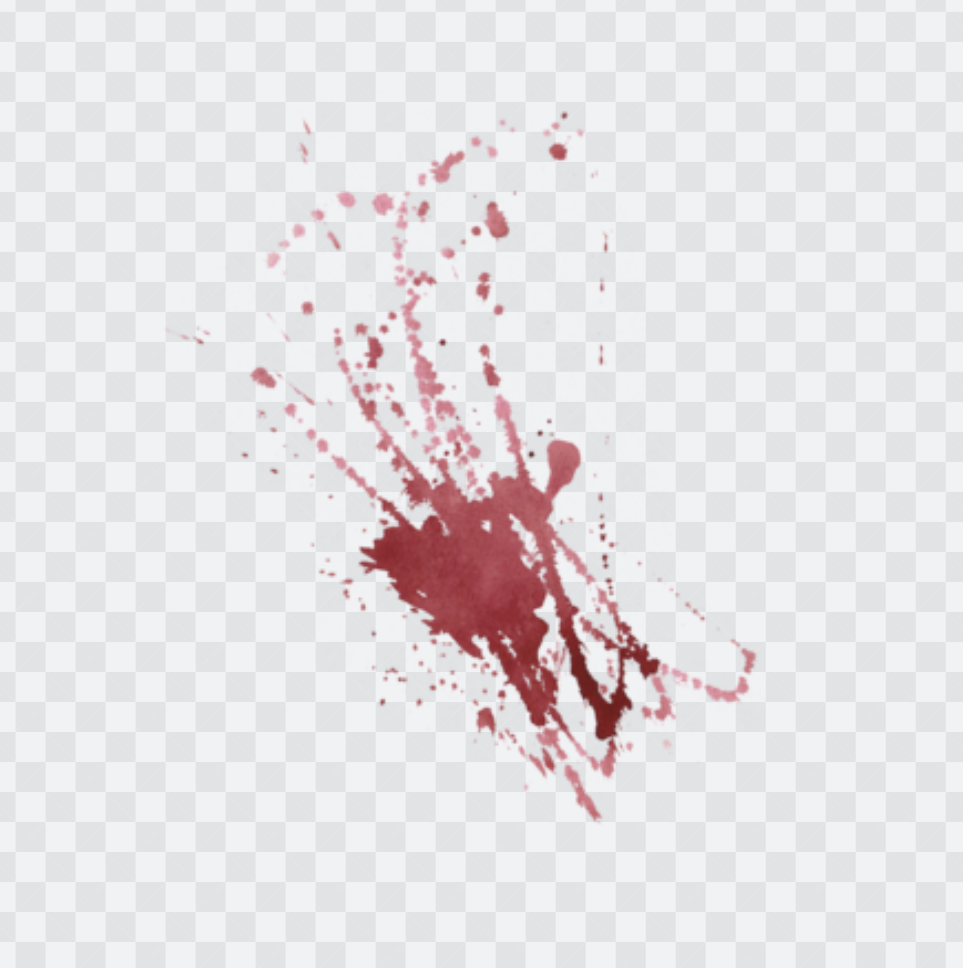blood_5.png: (211, 110, 773, 823)
